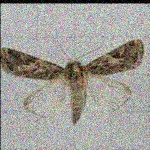Spodoptera litura: (0, 29, 144, 124)
